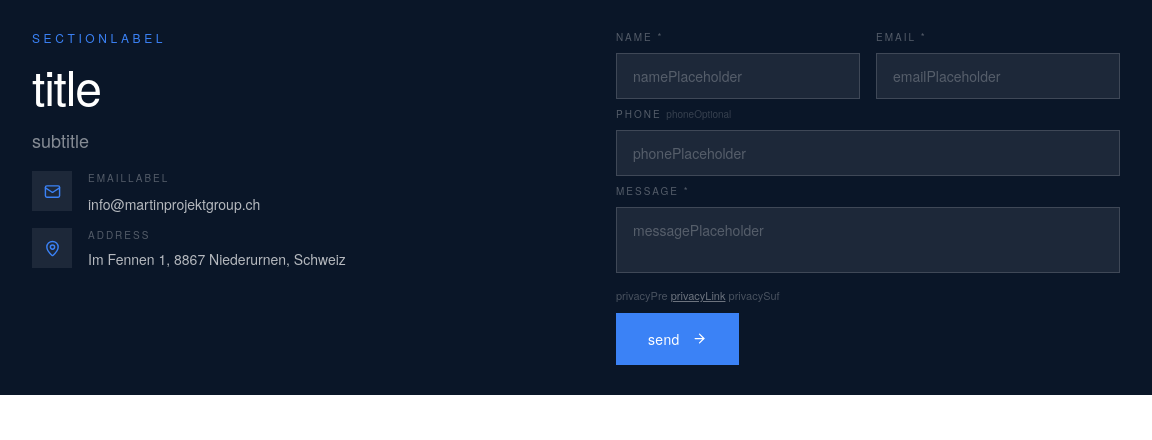
Test: ContactSection › shows server error when API returns non-ok response
Type "John Doe" into the field with placeholder "namePlaceholder".
click(738, 76); type("John Doe")  # box [616, 53, 860, 99]
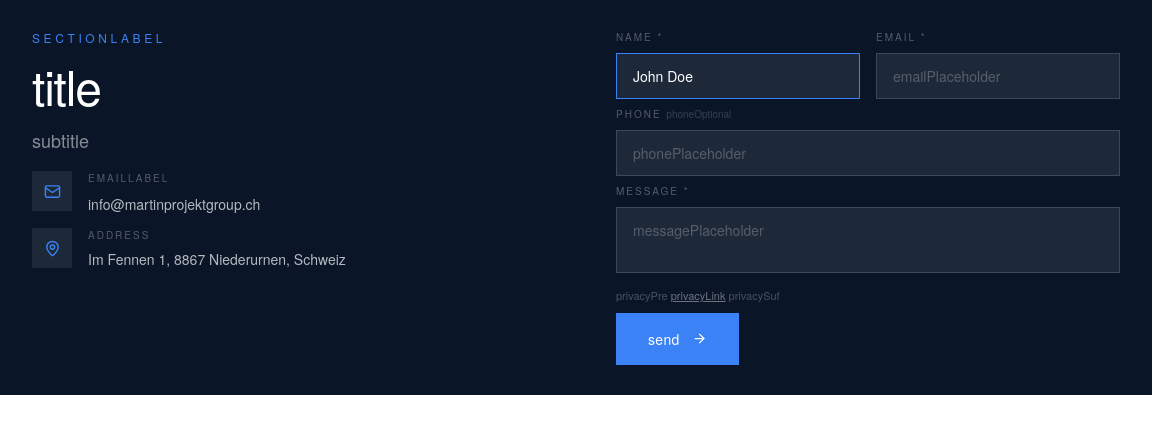
Type "john@example.com" into the field with placeholder "emailPlaceholder".
click(998, 76); type("john@example.com")  # box [876, 53, 1120, 99]
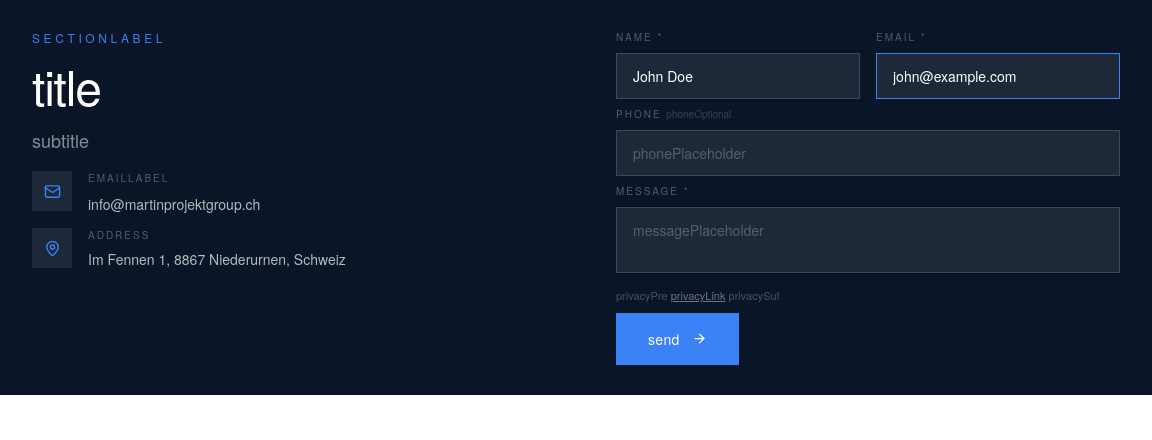
Type "Hello world inquiry" into the text box with placeholder "messagePlaceholder".
click(868, 240); type("Hello world inquiry")  # box [616, 207, 1120, 273]
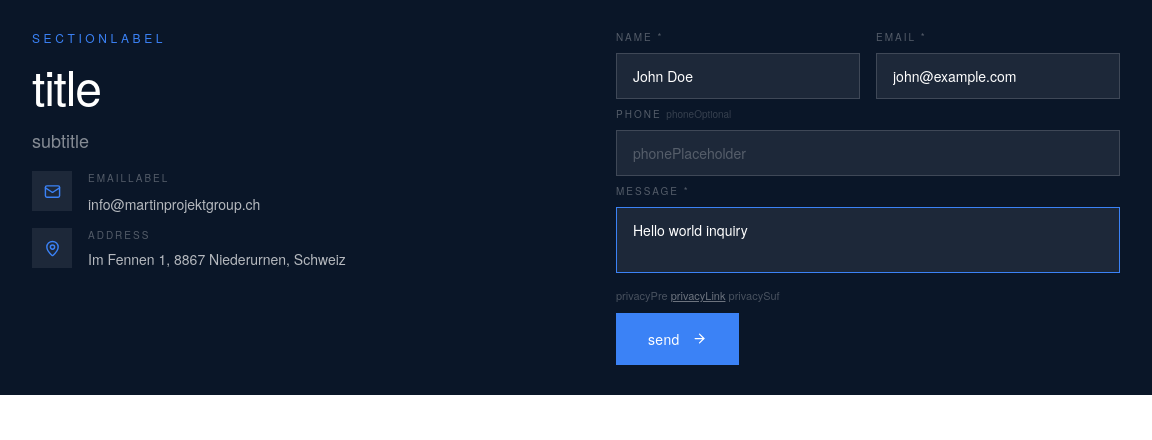
Click the button "send".
click(677, 339)  # box [616, 313, 739, 365]
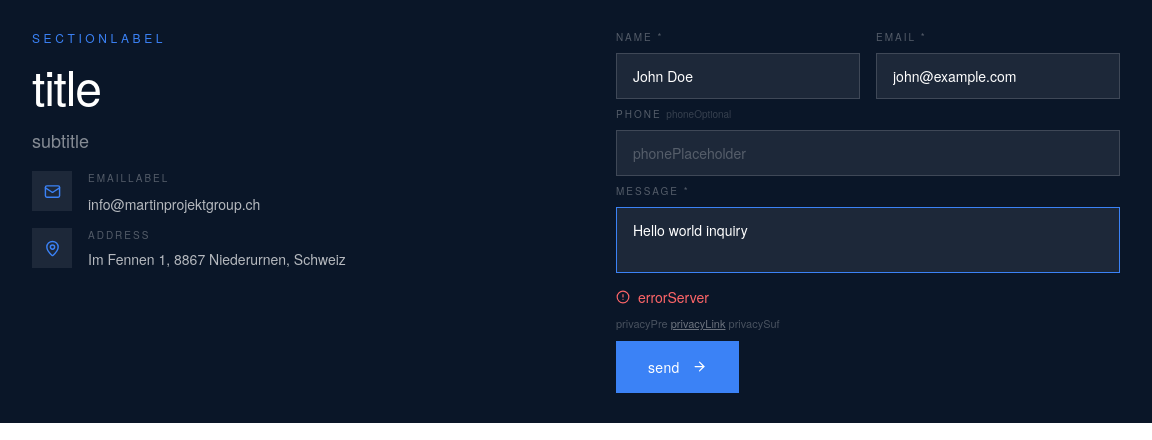
Expected: the text "errorServer" is shown, [616, 287, 709, 307]
